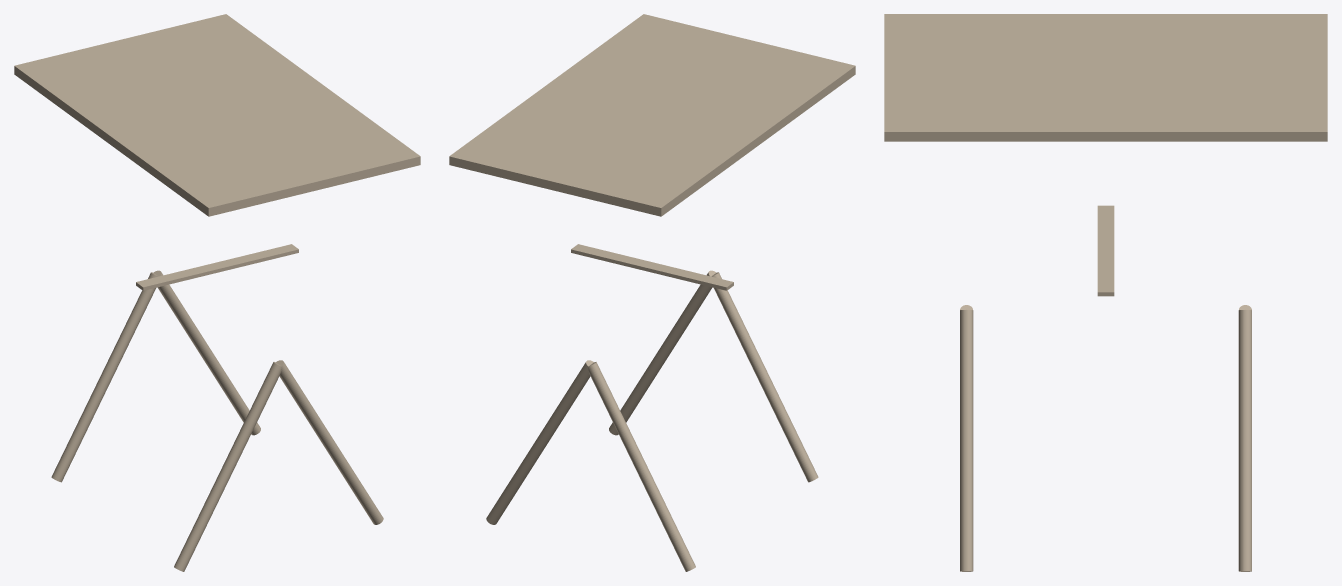
File: 3dcodebench_SimpleDesk_seed0_L4_Q0__gptoss120b.glb
3 views of the same model, side by side, from view 1: azimuth 30°, elevation 25°; view 2: azimuth 150°, elevation 25°; view 3: azimuth 270°, elevation 25° (orthographic). The views are drawn at different scales.
Parts seen in each view (by area): view 1: object; view 2: object; view 3: object.
Part boxes in pixels (x1=…): object: x1=14, y1=14, x2=420, y2=571; object: x1=449, y1=14, x2=855, y2=571; object: x1=884, y1=14, x2=1327, y2=571.
Size of the model in its own units: 0.7451 by 1.32 by 1.18.
